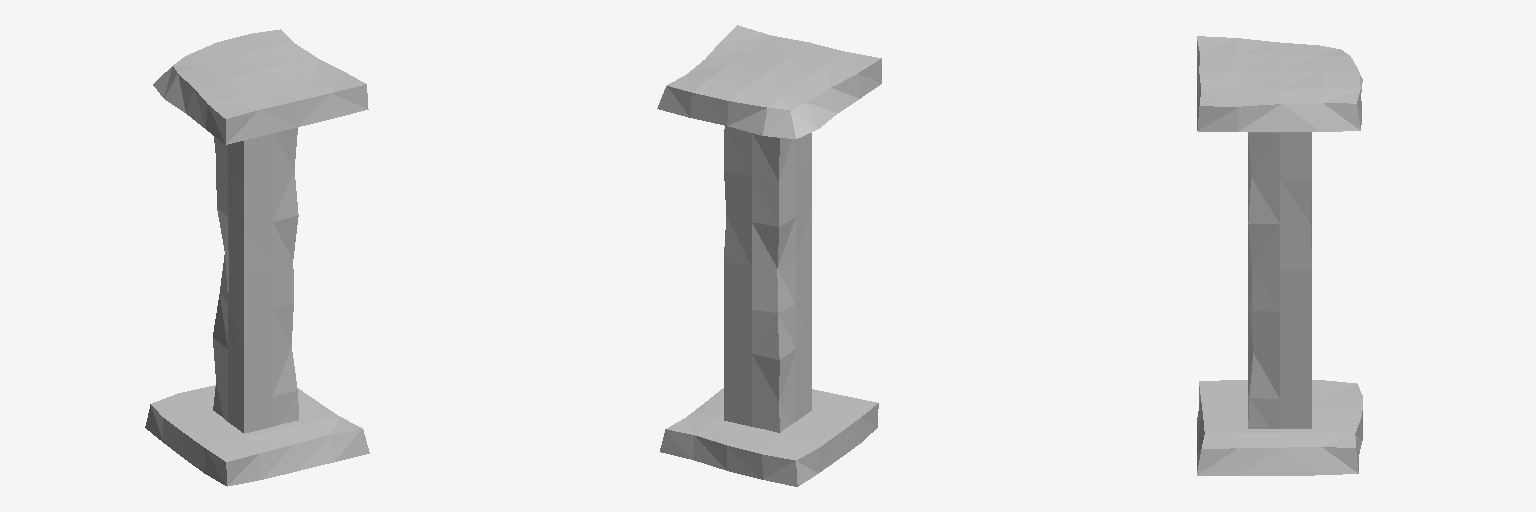
Rendered from pillar.obj.
The picture shows the model from 3 angles: view 1: azimuth 30°, elevation 25°; view 2: azimuth 150°, elevation 25°; view 3: azimuth 270°, elevation 25°; orthographic projection.
Visible parts, largest first — view 1: Cube; view 2: Cube; view 3: Cube.
Part boxes in pixels (bbox=[...]): Cube: bbox=[145, 29, 369, 486]; Cube: bbox=[657, 25, 881, 486]; Cube: bbox=[1197, 36, 1362, 475].
Size of the model in its own units: 10.46 by 25.57 by 10.46.